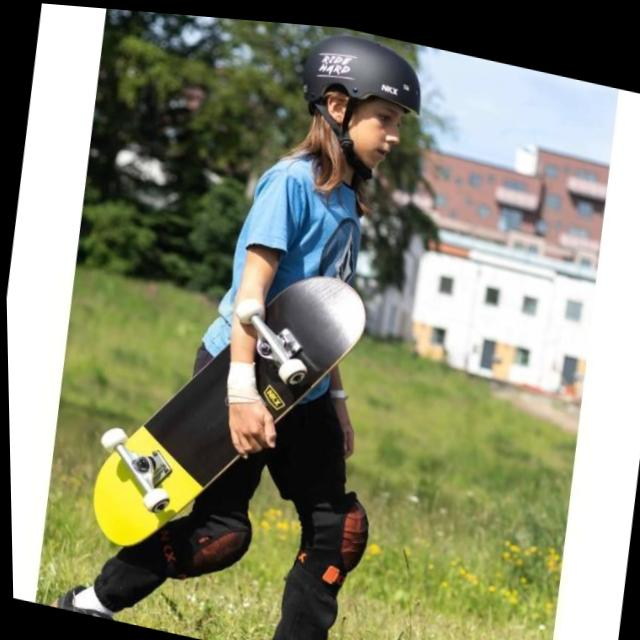helmet: (286, 19, 436, 189)
